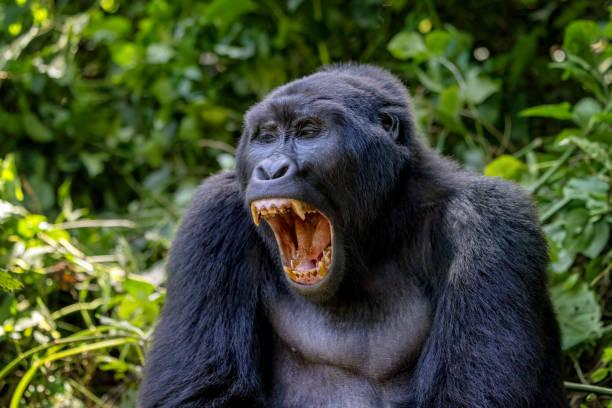goriile_montagne: (159, 22, 572, 408)
